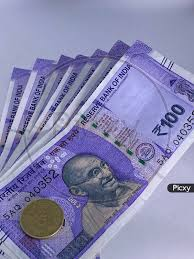hundred: (26, 82, 190, 177)
